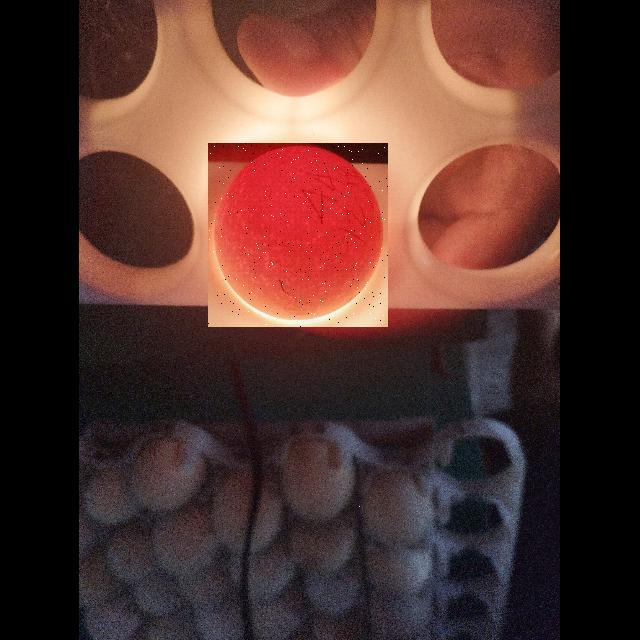Infertile: (208, 143, 388, 327)
